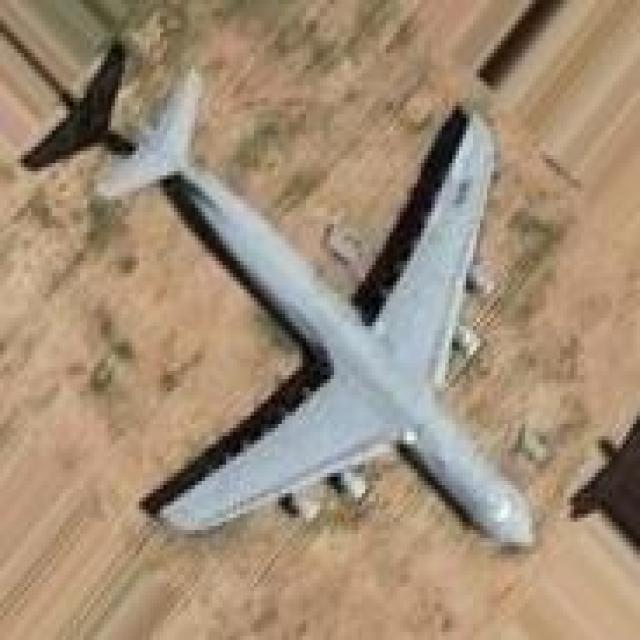C-5_TopDown: (18, 32, 542, 554)
